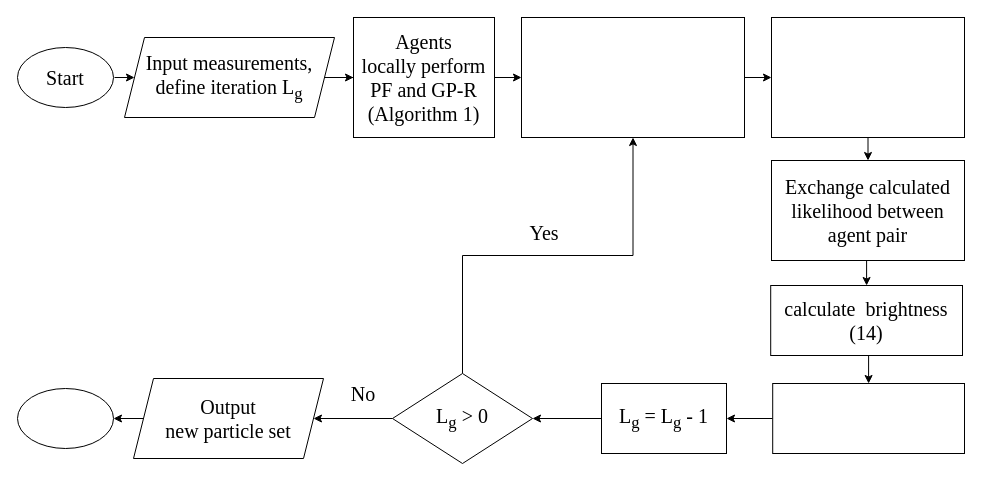
Some shapes in this 982 by 481 pixel diagram are drawn without their labels. The centre of each missing label's shape, as x and y in pixels:
Agent pair execute FAF (Algorithm 3) locally: the point at 868,418
Calculate new likelihood on received particles at agent pair: the point at 867,77
End: the point at 65,418
Exchange particles&likelihood between randomly chosen agent pair: the point at 632,77
